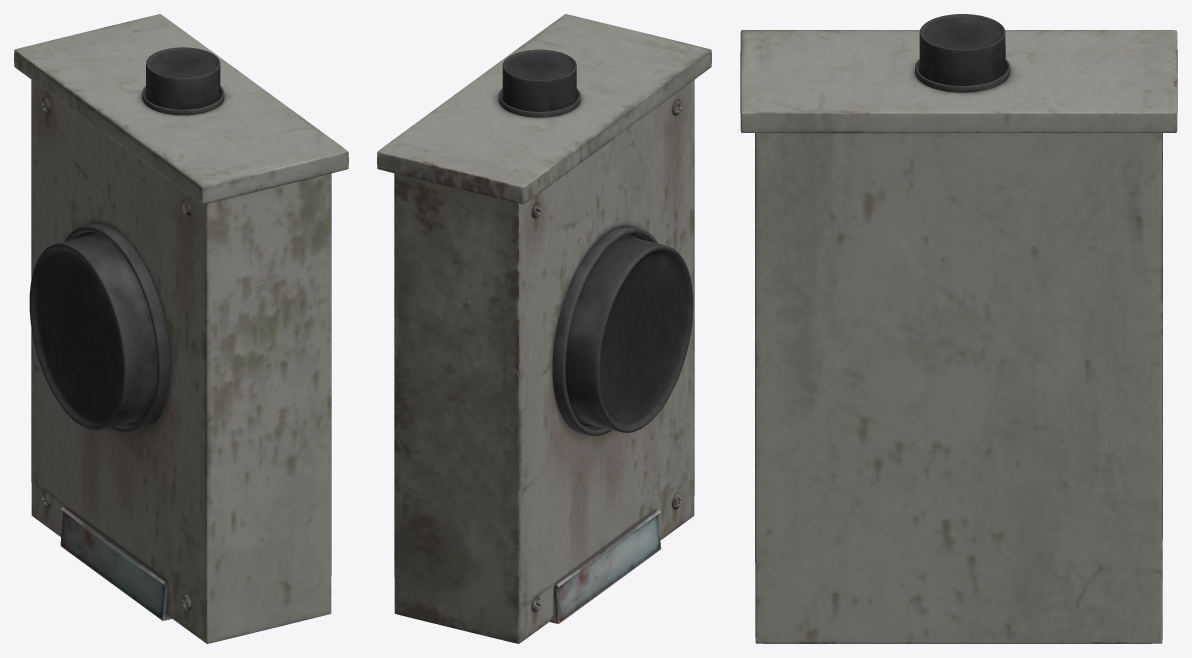
File: SM_Electrical_Cabinet_02b.fbx
The picture shows the model from 3 angles, left to right: view 1: azimuth 30°, elevation 25°; view 2: azimuth 150°, elevation 25°; view 3: azimuth 270°, elevation 25°; orthographic projection. The views are drawn at different scales.
Parts seen in each view (by area): view 1: SM_Electrical_Cabinet_02b_LOD0; view 2: SM_Electrical_Cabinet_02b_LOD0; view 3: SM_Electrical_Cabinet_02b_LOD0.
Part boxes in pixels (bbox=[...]): SM_Electrical_Cabinet_02b_LOD0: bbox=[14, 14, 348, 643]; SM_Electrical_Cabinet_02b_LOD0: bbox=[377, 14, 711, 643]; SM_Electrical_Cabinet_02b_LOD0: bbox=[740, 14, 1177, 643].
Bounding box in the file's own units: 9.86 × 18.22 × 26.83.
